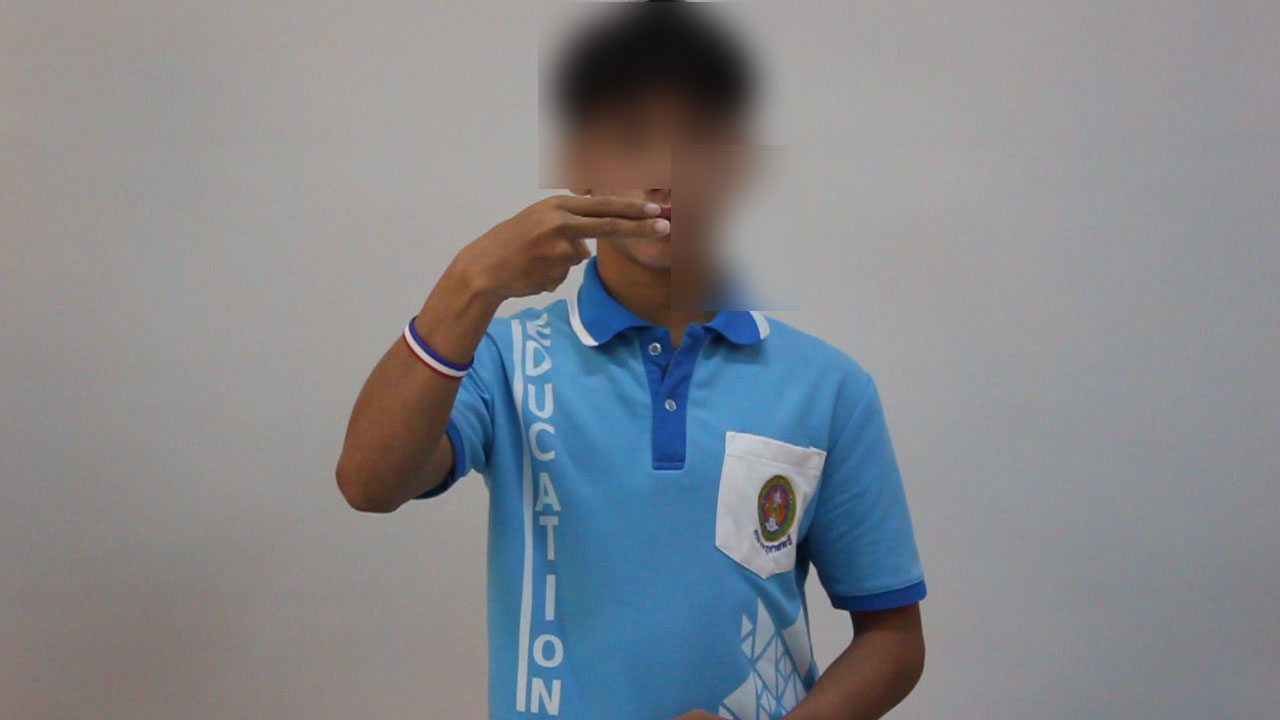hor: (454, 186, 682, 312)
